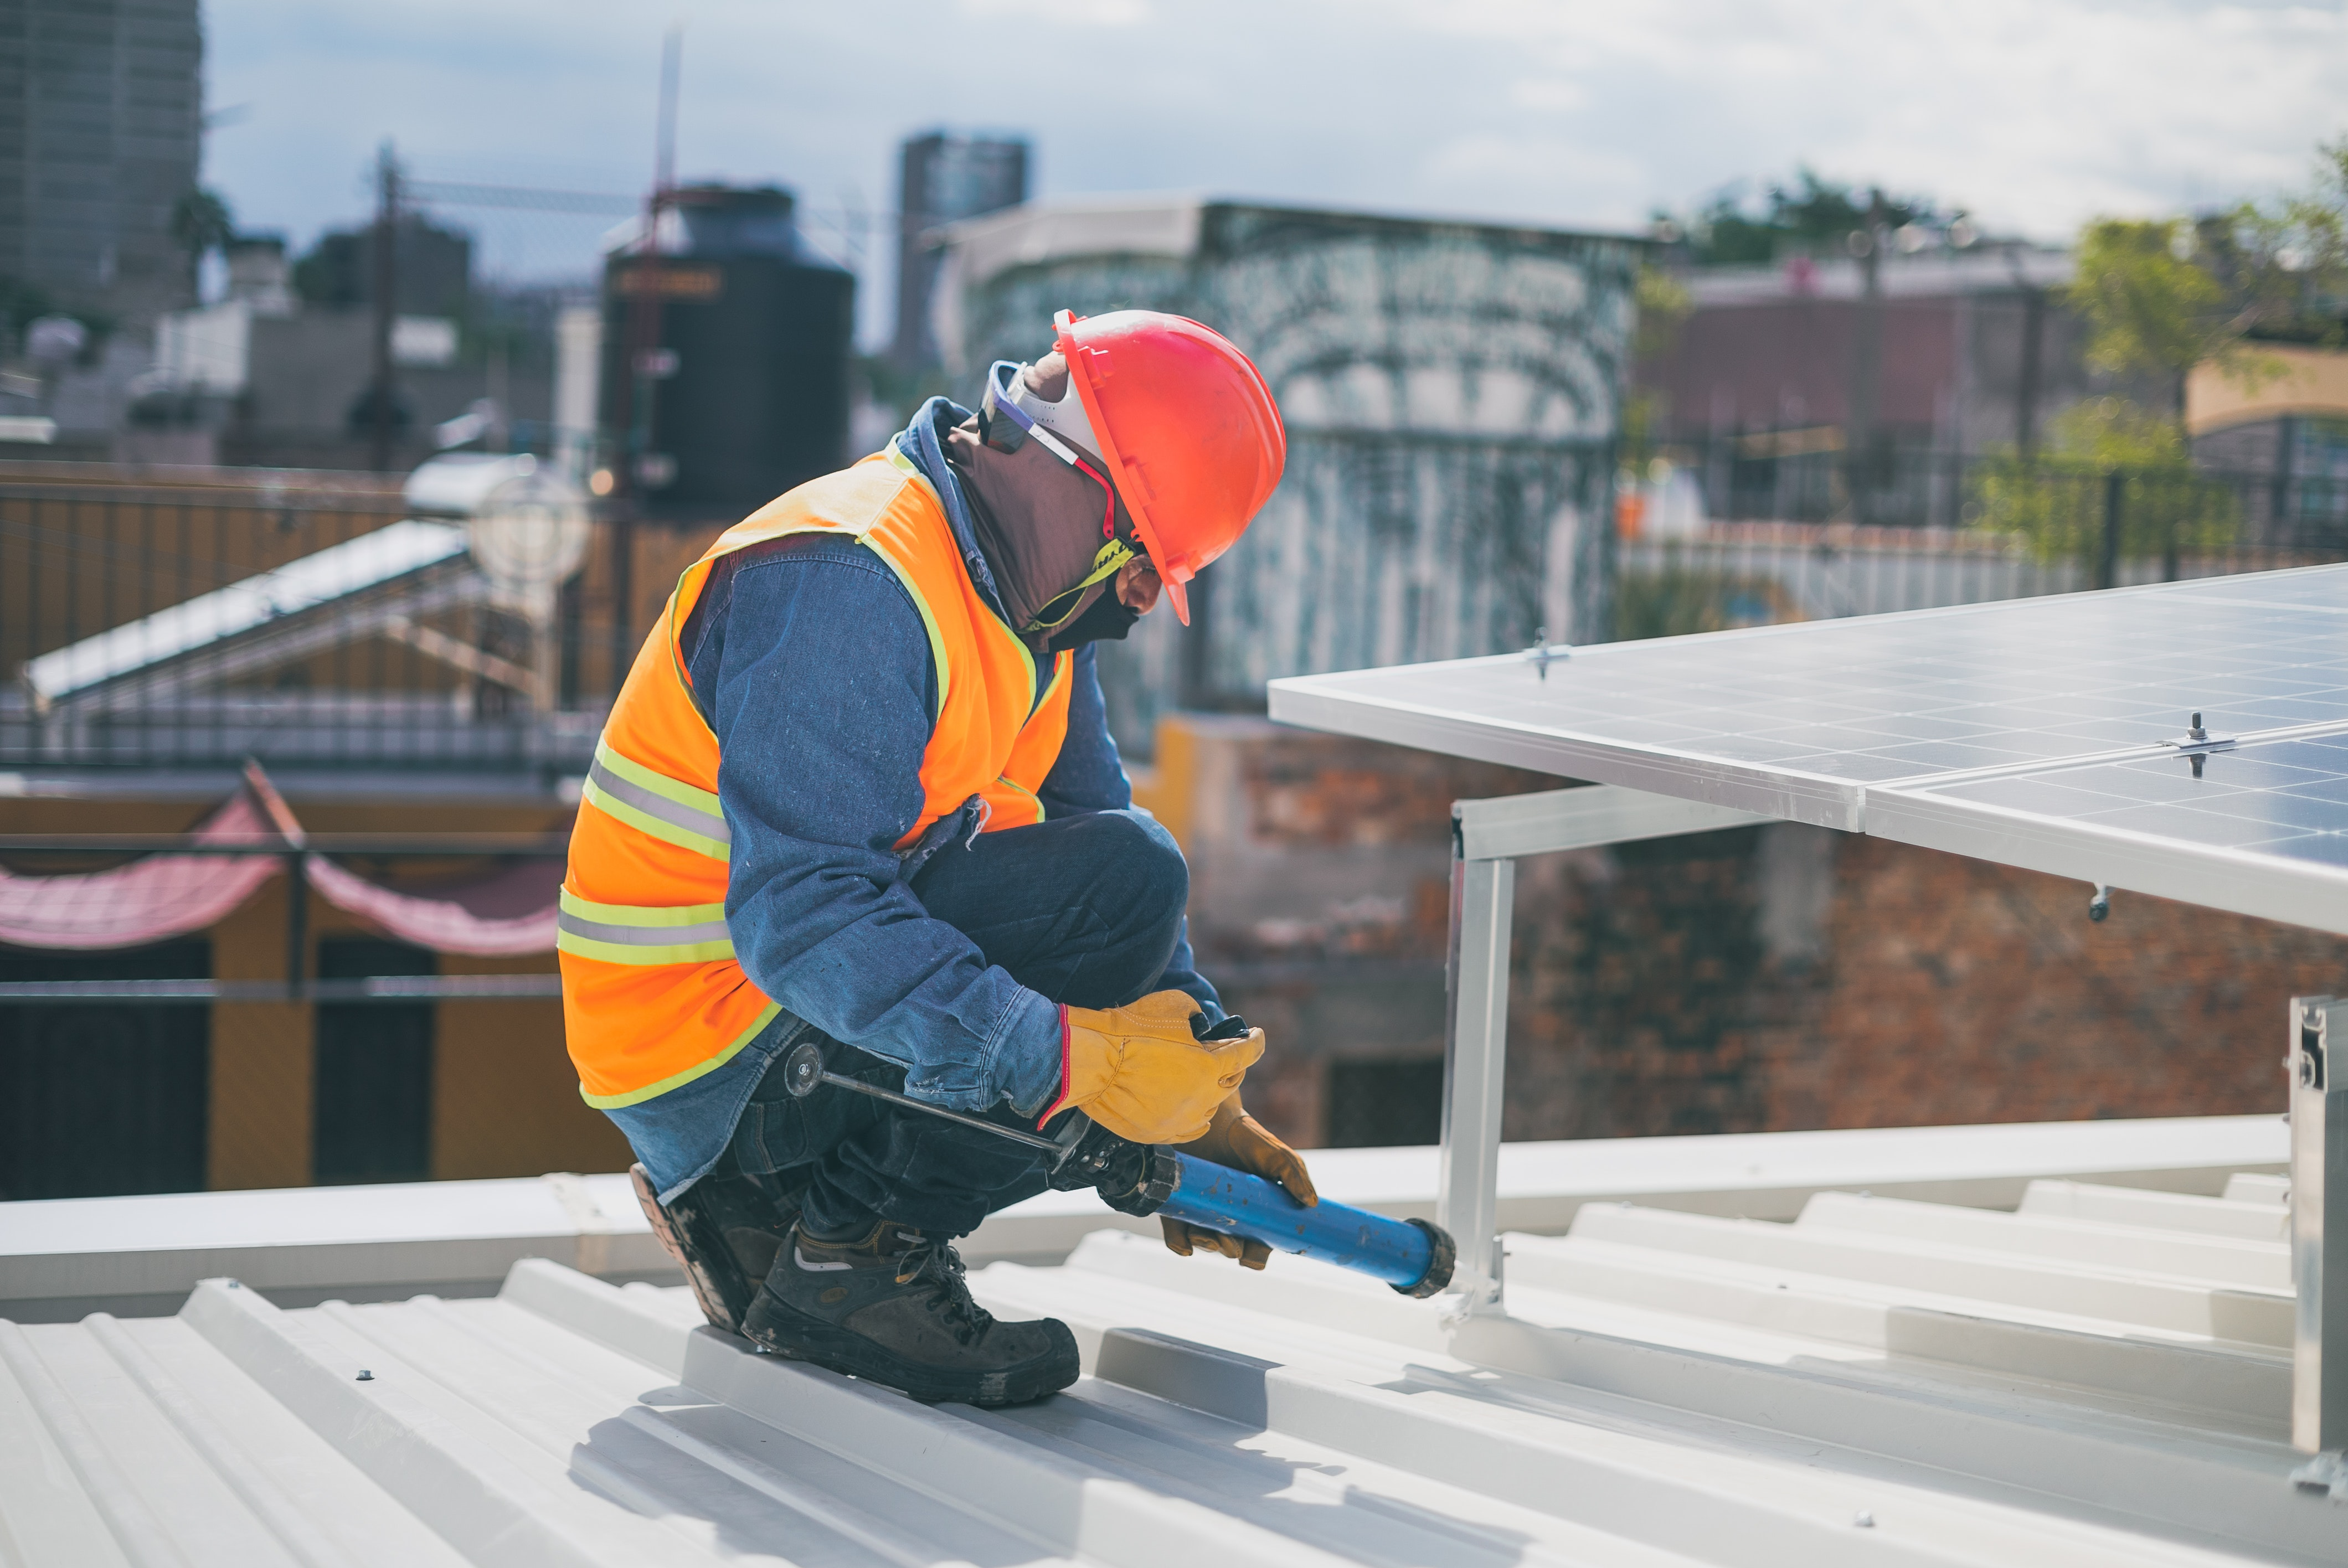Helmet: (938, 276, 1295, 691)
Reflective vest: (548, 427, 1094, 1115)
